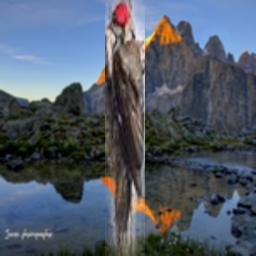Woodpecker: (105, 0, 145, 256)
